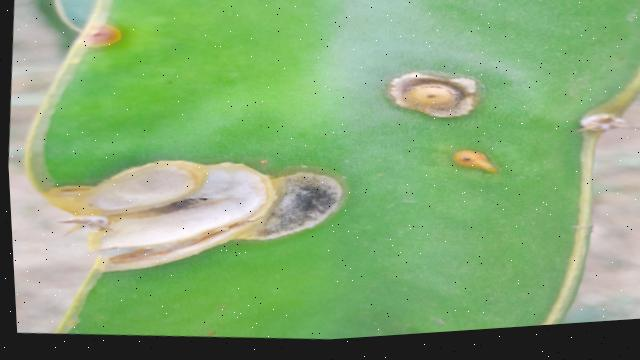stemcanker: (386, 68, 484, 124), (446, 145, 505, 178)
